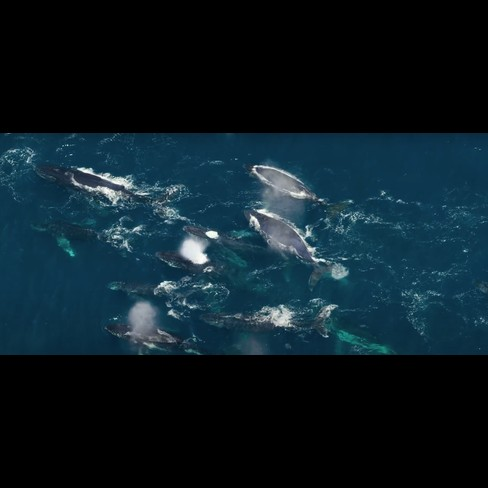hump: (15, 158, 186, 225), (240, 203, 345, 296), (240, 157, 358, 234), (16, 216, 164, 258), (200, 304, 348, 343), (99, 276, 224, 315), (94, 318, 205, 356)
